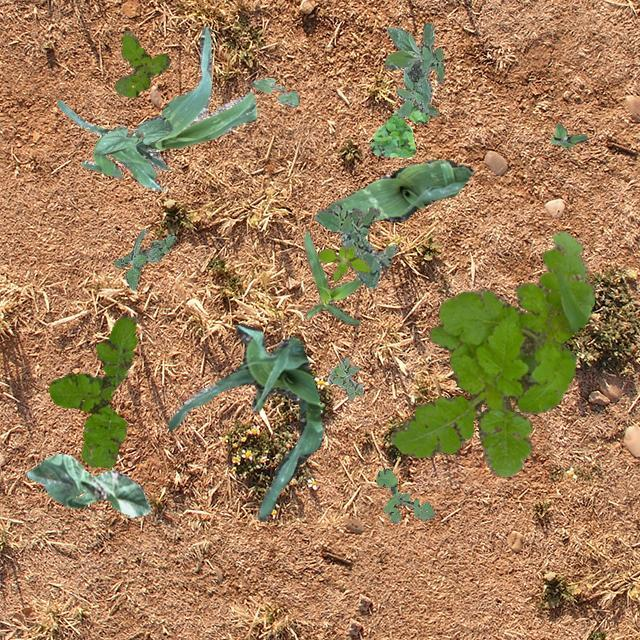crop: (168, 322, 324, 520), (132, 25, 256, 168), (324, 158, 472, 222), (56, 99, 160, 190), (26, 452, 150, 516), (302, 230, 361, 324), (94, 114, 170, 154), (252, 76, 298, 106)
weed: (388, 230, 594, 476), (47, 314, 136, 468), (314, 204, 398, 288), (383, 21, 442, 116), (113, 228, 175, 290), (114, 30, 168, 96), (374, 468, 434, 522), (368, 102, 428, 156), (316, 244, 368, 280), (326, 356, 362, 399), (548, 122, 586, 146)
